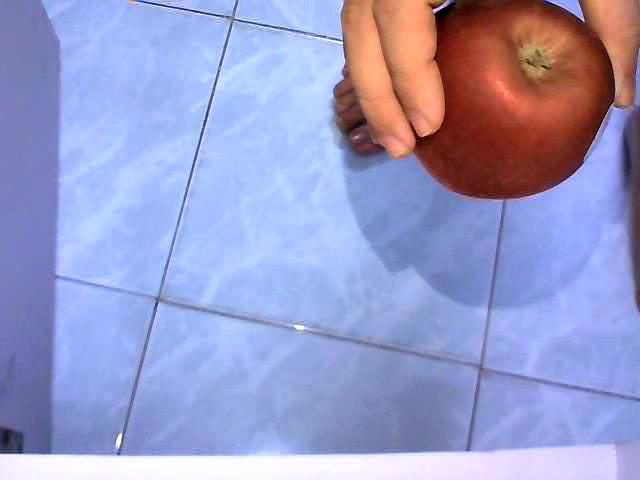apple: (408, 0, 618, 202)
